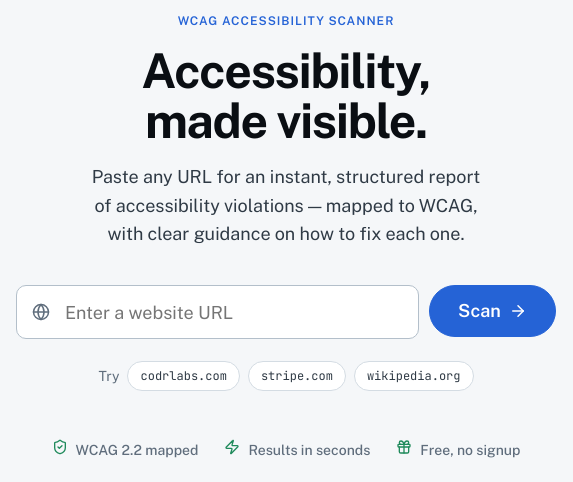
Test: LandingView › shows the scanning state while the scan promise is pending
Type "https://example.com" into the field labelled "website URL".
click(218, 312); type("https://example.com")  # box x1=16 y1=285 x2=419 y2=339
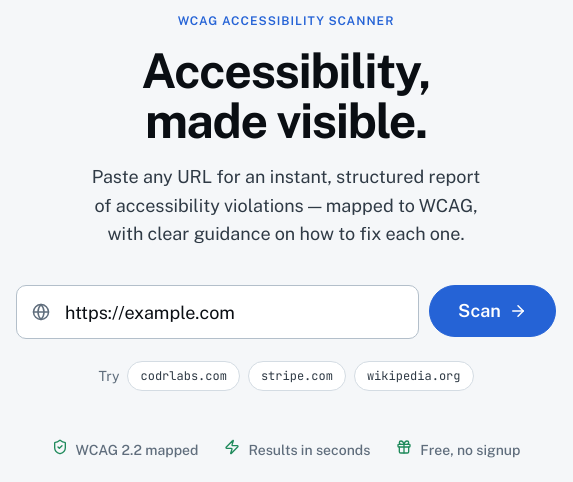
Click the button "Scan".
click(493, 311)  # box x1=429 y1=285 x2=556 y2=337
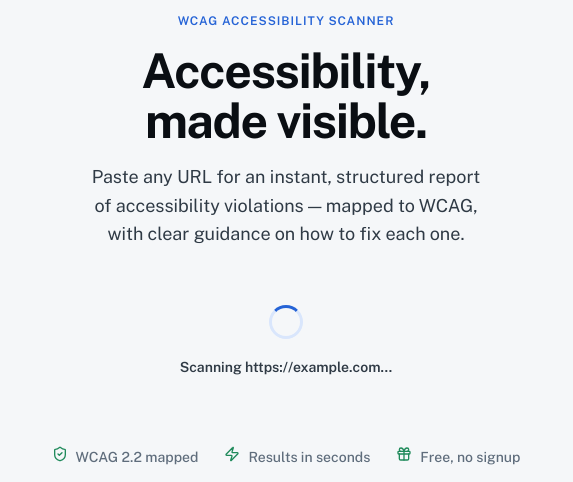
Result: the text "Scanning https://example.com…" is shown at x1=180 y1=357 x2=392 y2=378
